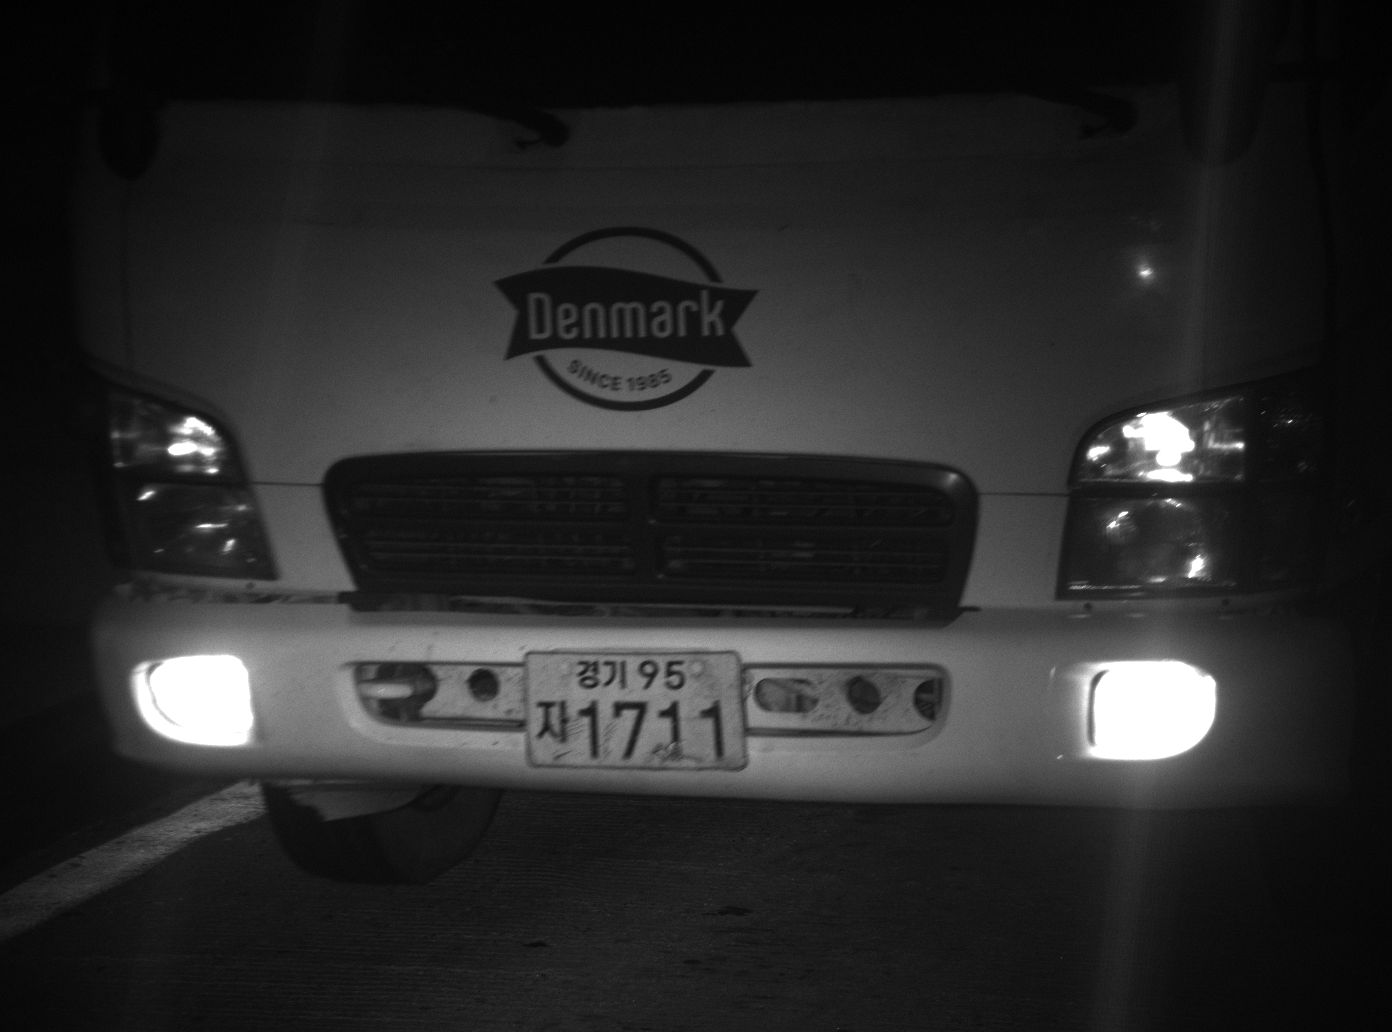car: (64, 1, 1389, 884)
plate: (521, 648, 747, 768)
